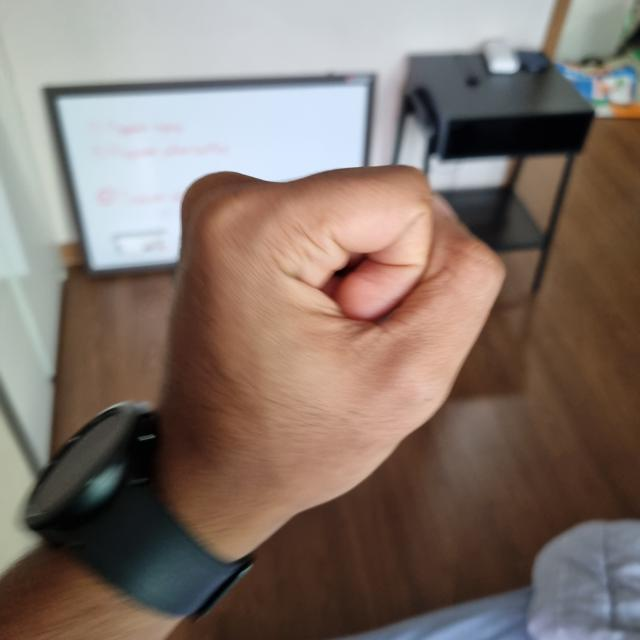Rock: (162, 164, 502, 515)
